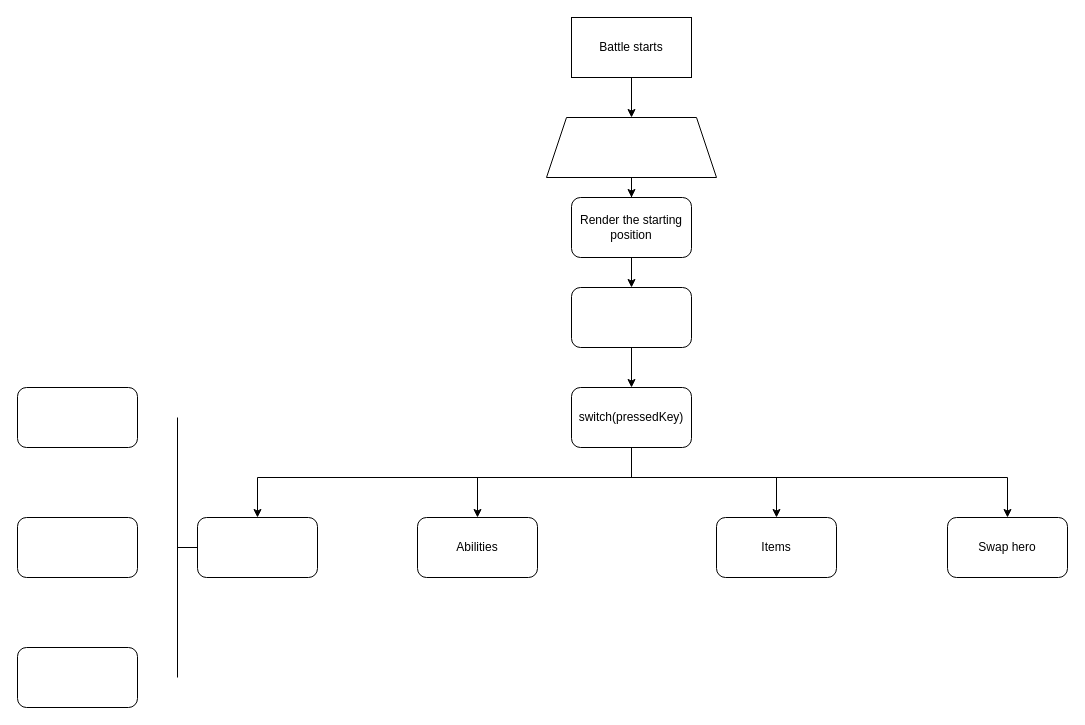
Some shapes in this 1085 by 725 pixel diagram are drawn without their labels. Each missing label, with the centre of its shape:
"Attacks" belongs at (x=257, y=547).
"pressedKey = getch();" belongs at (x=631, y=317).
"While(heroTurn == true)" belongs at (x=631, y=147).
